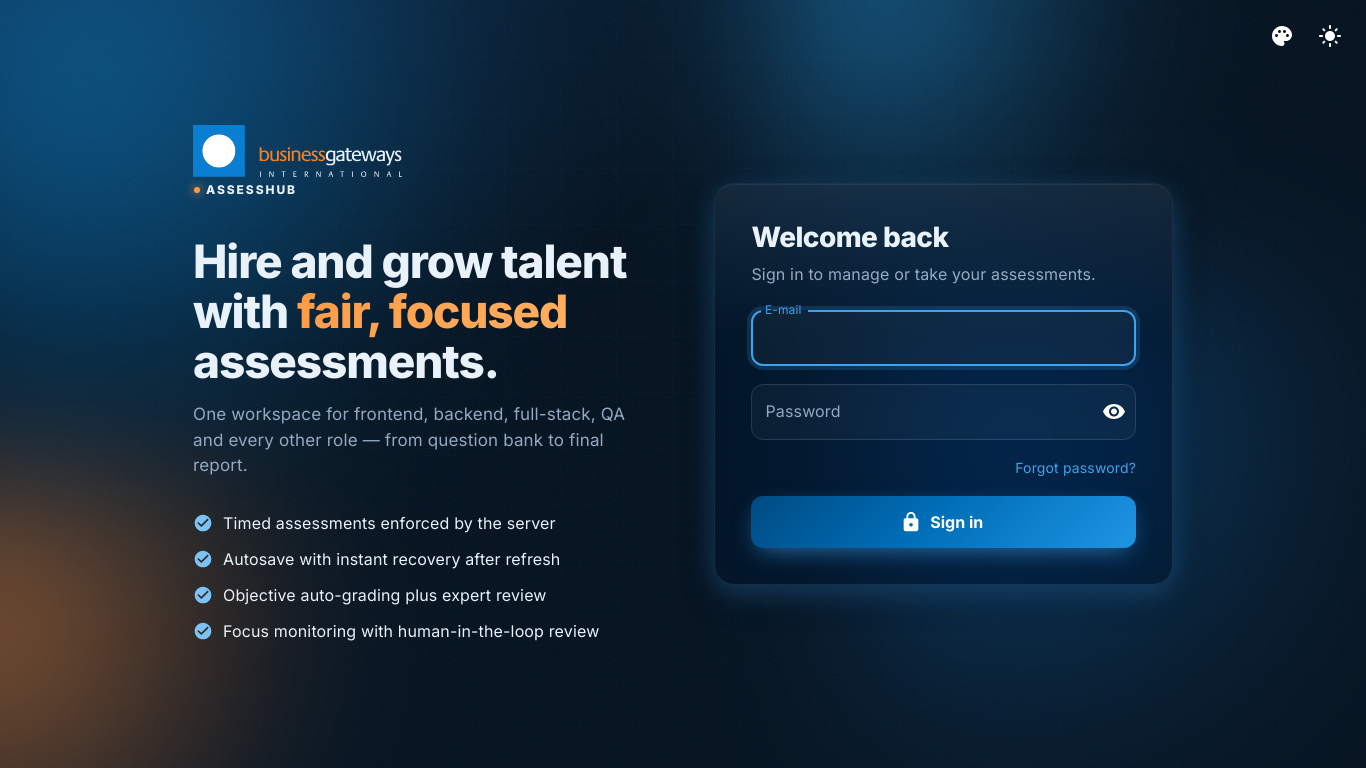
LoginPage › submits credentials and shows server errors
Type "r@acme.io" into the field labelled "E-mail" at x=944, y=338, box [752,310,1136,366]
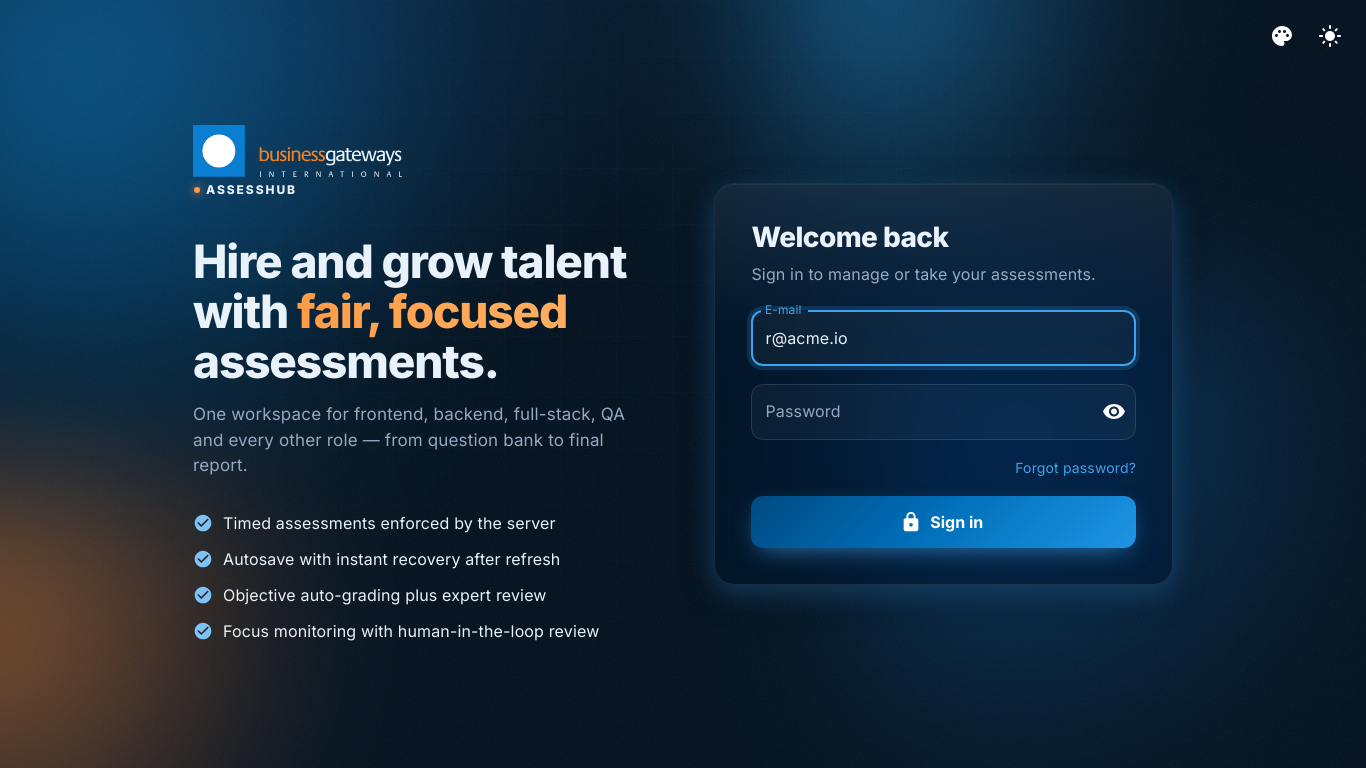
Type "Secret123" into the password field labelled "Password" at x=919, y=412, box [752,384,1086,440]
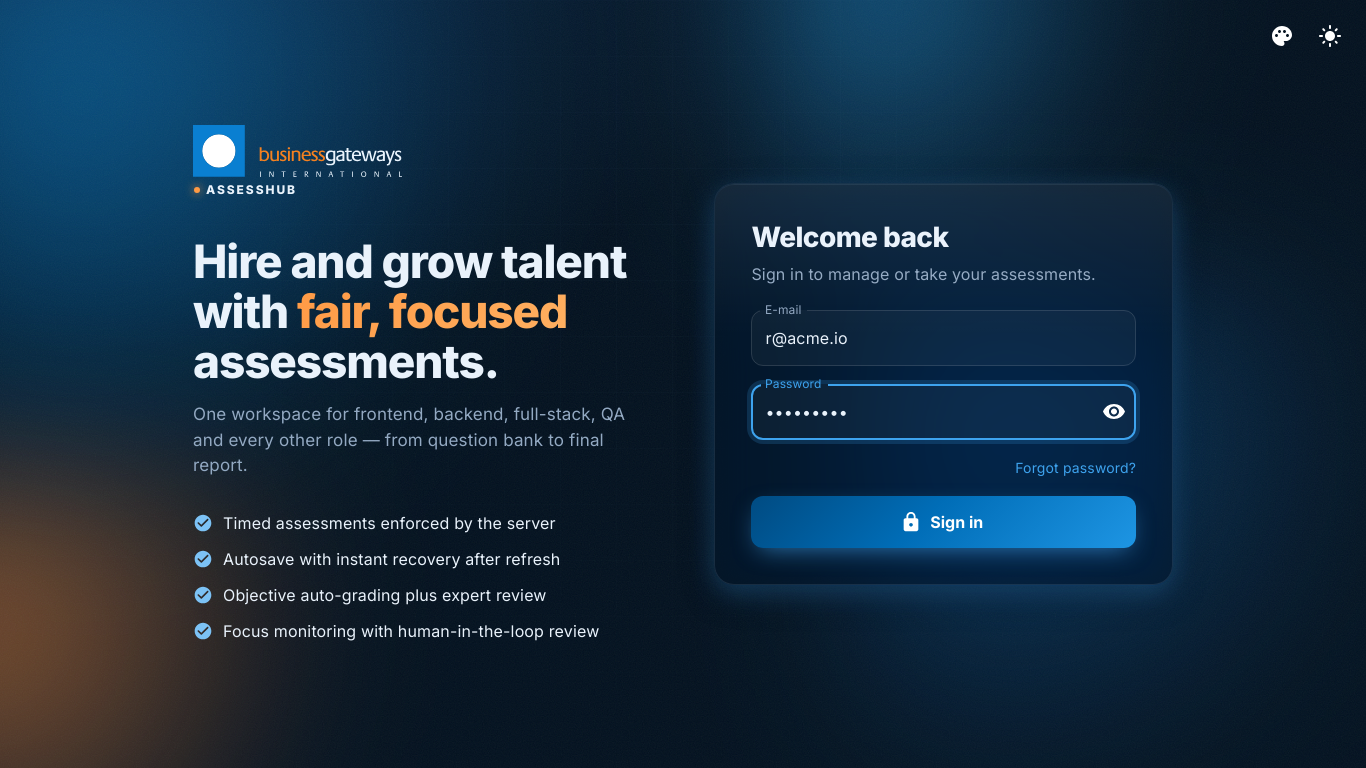
Click the button "Sign in" at x=944, y=522, box [752,496,1136,548]
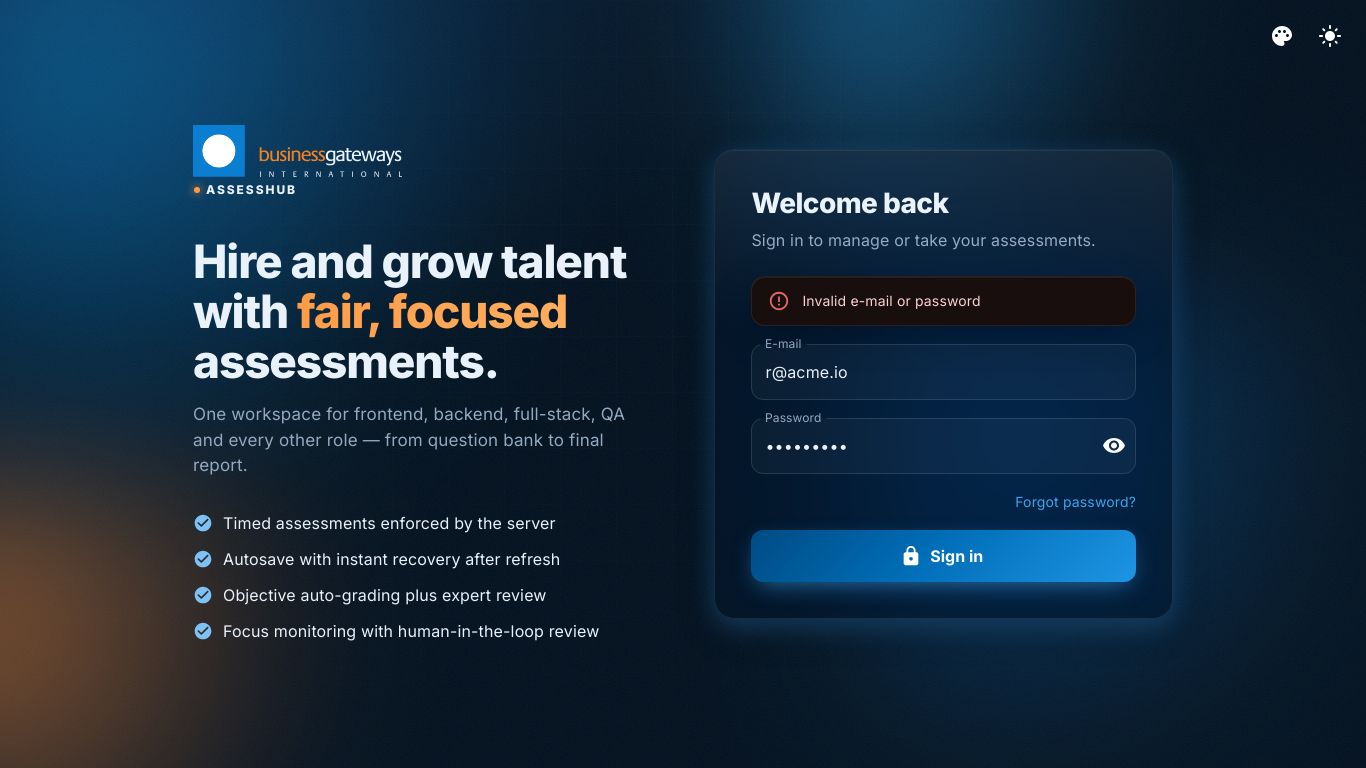
Expected: the text "Invalid e-mail or password" is shown, [802,292,981,309]
